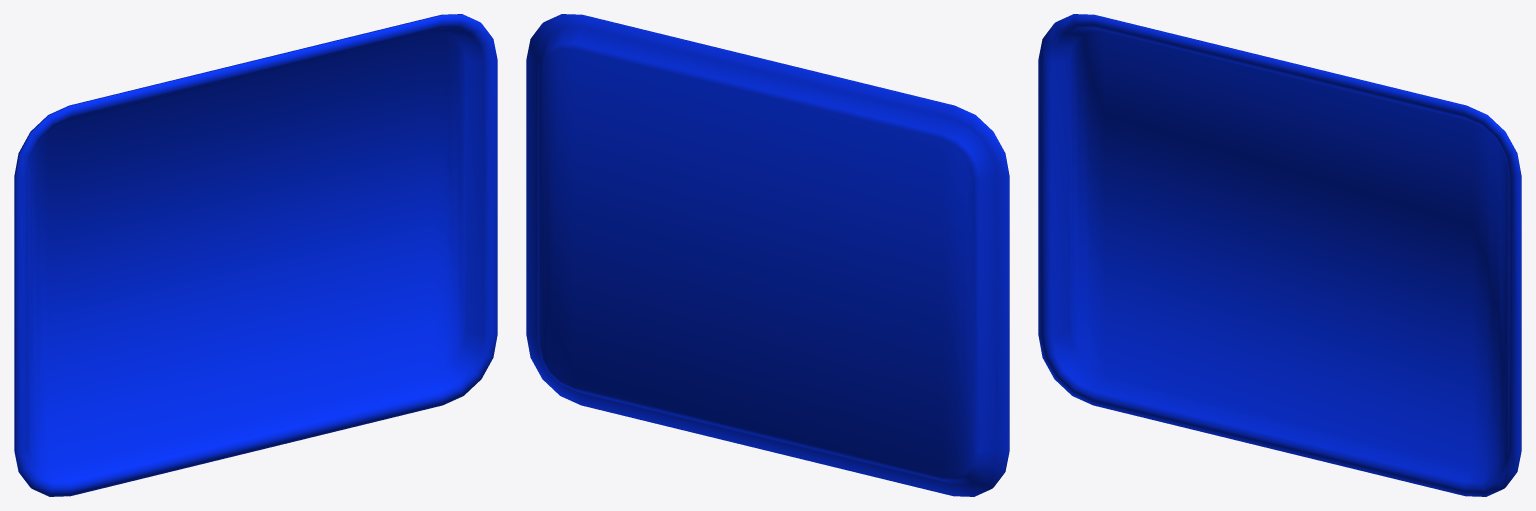
The picture shows the model from 3 angles, left to right: view 1: azimuth 30°, elevation 25°; view 2: azimuth 150°, elevation 25°; view 3: azimuth 330°, elevation 25°; orthographic projection.
Size of the model in its own units: 1 by 0.7727 by 0.0398.
